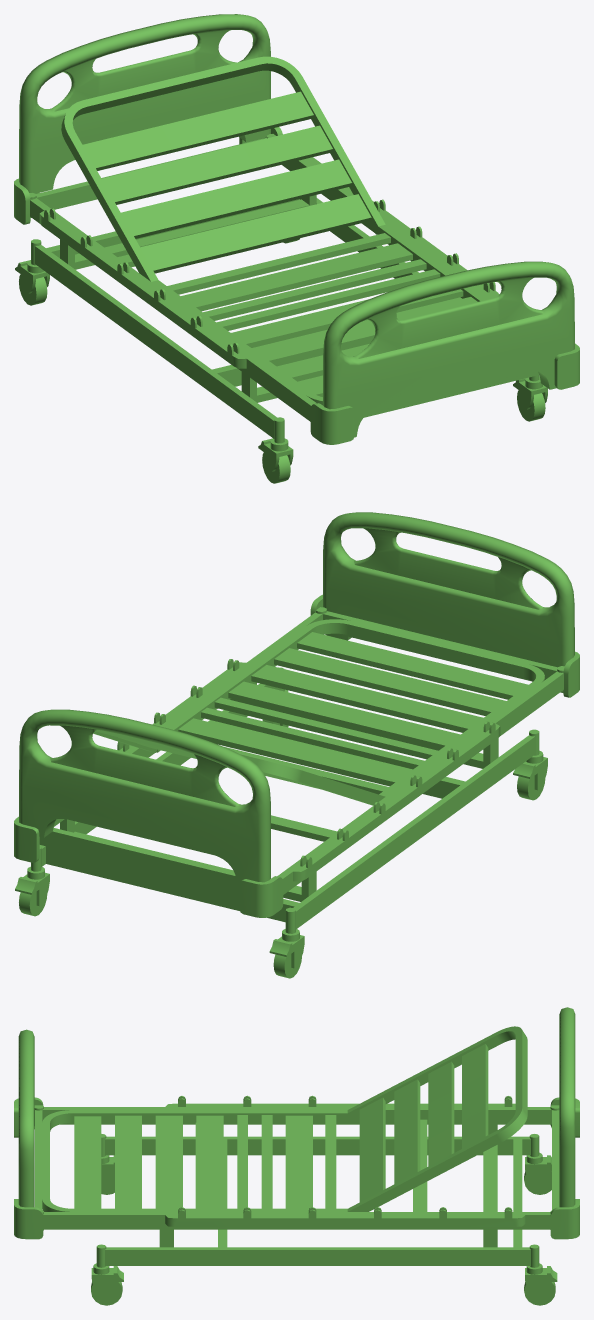
Rendered from SM_HospitalBed_02l.FBX.
3 views of the same model, one above another, from view 1: azimuth 30°, elevation 25°; view 2: azimuth 150°, elevation 25°; view 3: azimuth 270°, elevation 25° (orthographic). The views are drawn at different scales.
Visible parts, largest first — view 1: SM_HospitalBed_02l_LOD0; view 2: SM_HospitalBed_02l_LOD0; view 3: SM_HospitalBed_02l_LOD0.
Boxes of the visible parts, left/top/right/bottom form: SM_HospitalBed_02l_LOD0: left=14, top=14, right=579, bottom=483; SM_HospitalBed_02l_LOD0: left=14, top=512, right=579, bottom=978; SM_HospitalBed_02l_LOD0: left=14, top=1007, right=579, bottom=1305.
Size of what is drawn, in the model's own units: 109 by 89.09 by 221.
